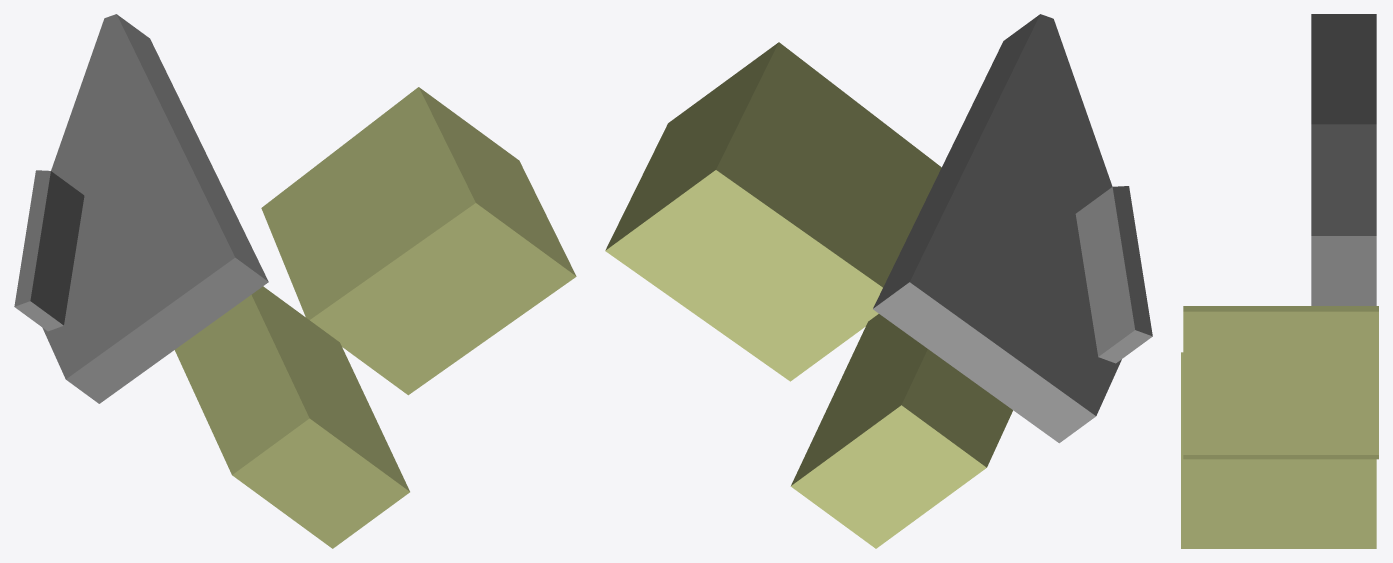
The picture shows the model from 3 angles, left to right: view 1: azimuth 30°, elevation 25°; view 2: azimuth 150°, elevation 25°; view 3: azimuth 270°, elevation 25°; orthographic projection. The views are drawn at different scales.
Visible parts, largest first — view 1: 0_2_2_0_0_0_0_2_1_3; view 2: 0_2_2_0_0_0_0_2_1_3; view 3: 0_2_2_0_0_0_0_2_1_3.
Part boxes in pixels (x1=…): 0_2_2_0_0_0_0_2_1_3: x1=14, y1=14, x2=576, y2=548; 0_2_2_0_0_0_0_2_1_3: x1=605, y1=14, x2=1152, y2=548; 0_2_2_0_0_0_0_2_1_3: x1=1181, y1=14, x2=1378, y2=548.
Size of the model in its own units: 23.87 by 24.13 by 9.1.
